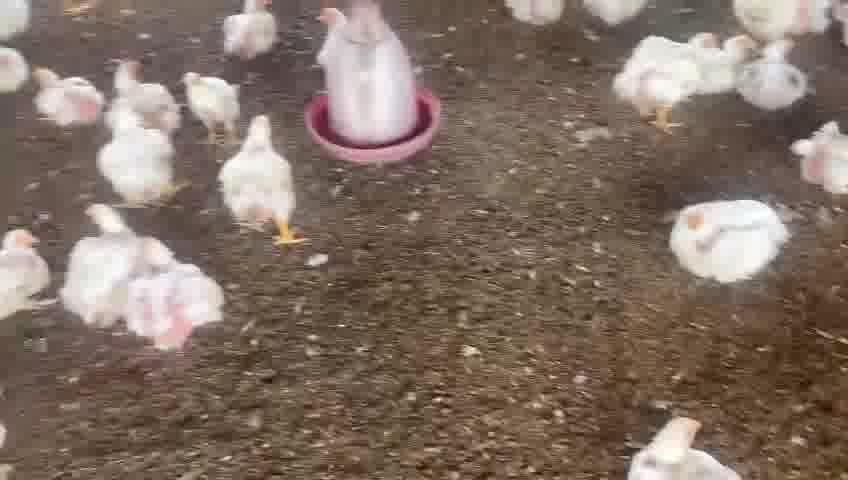AbNormal: (669, 202, 789, 281), (73, 201, 150, 320), (102, 109, 184, 214), (732, 33, 806, 111), (0, 223, 47, 323), (33, 66, 106, 127), (227, 3, 280, 60)
Normal: (220, 119, 306, 250), (616, 32, 718, 133), (624, 415, 742, 480), (181, 70, 244, 145)
